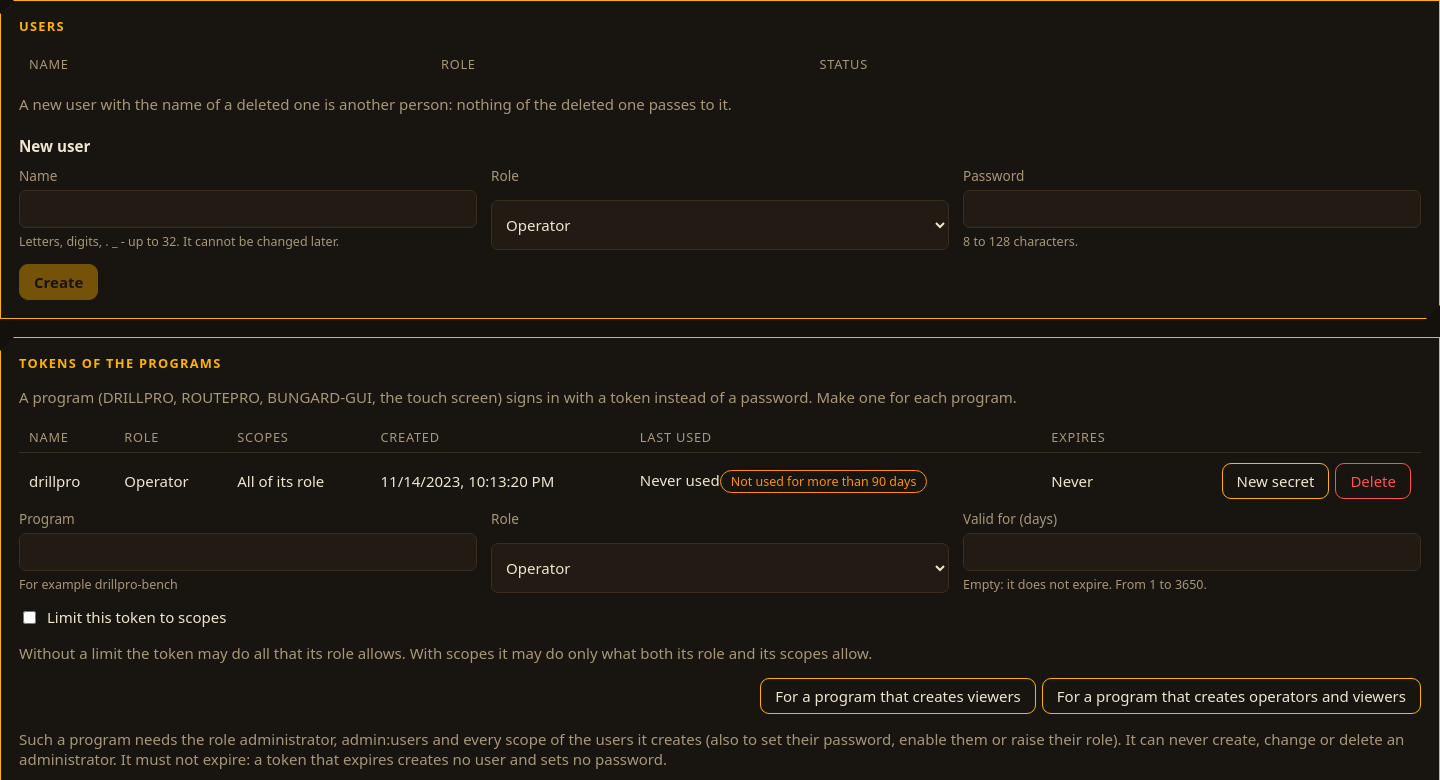
Test case: a new secret for a token › is asked for only after the confirmation, and shown once
This screenshot has width=1440, height=780.
Click the button "New secret" at (1275, 482), box [1222,464,1329,500]
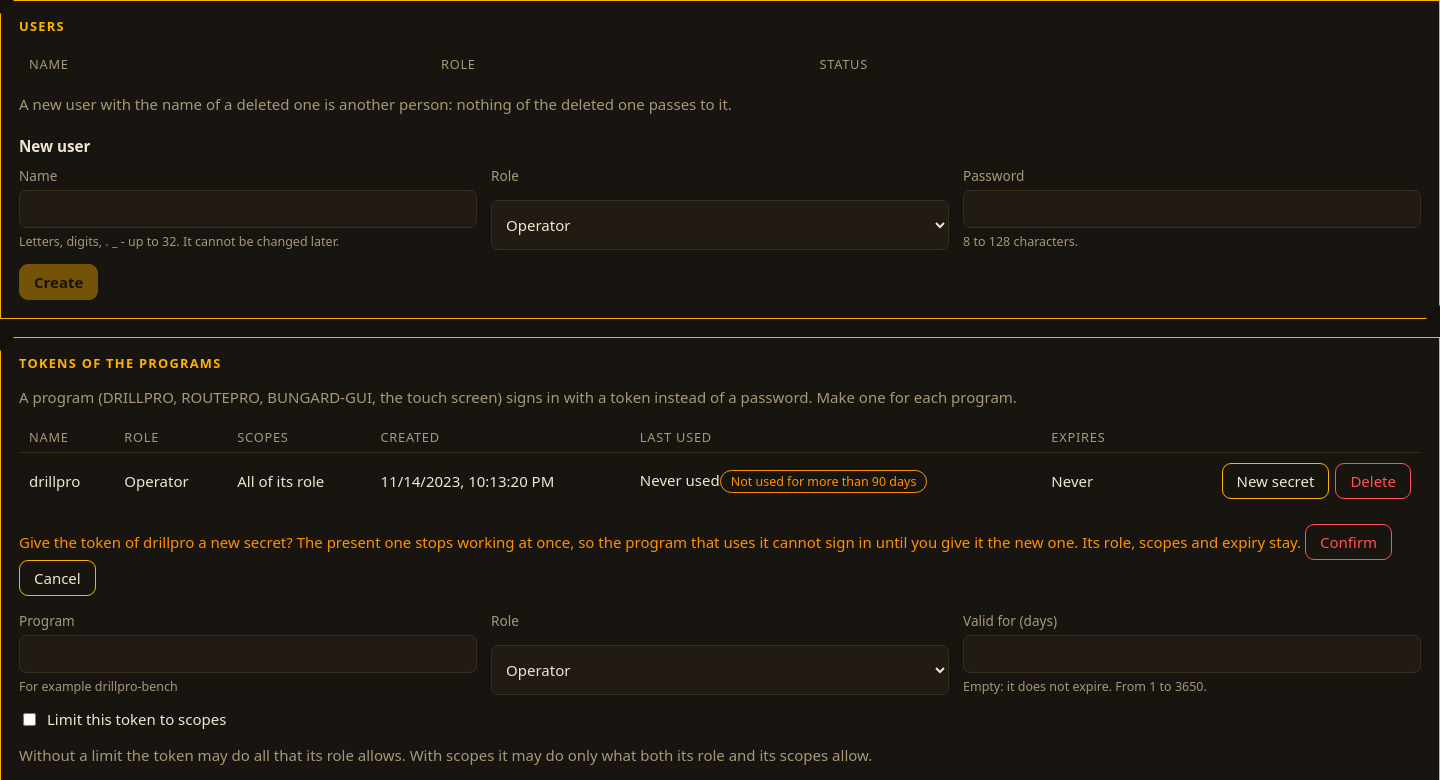
Check: the text "Give the token of drillpro a new secret?" is shown, box [19,532,1301,552]
Click the button "Cancel" at (57, 578), box [19,560,96,596]
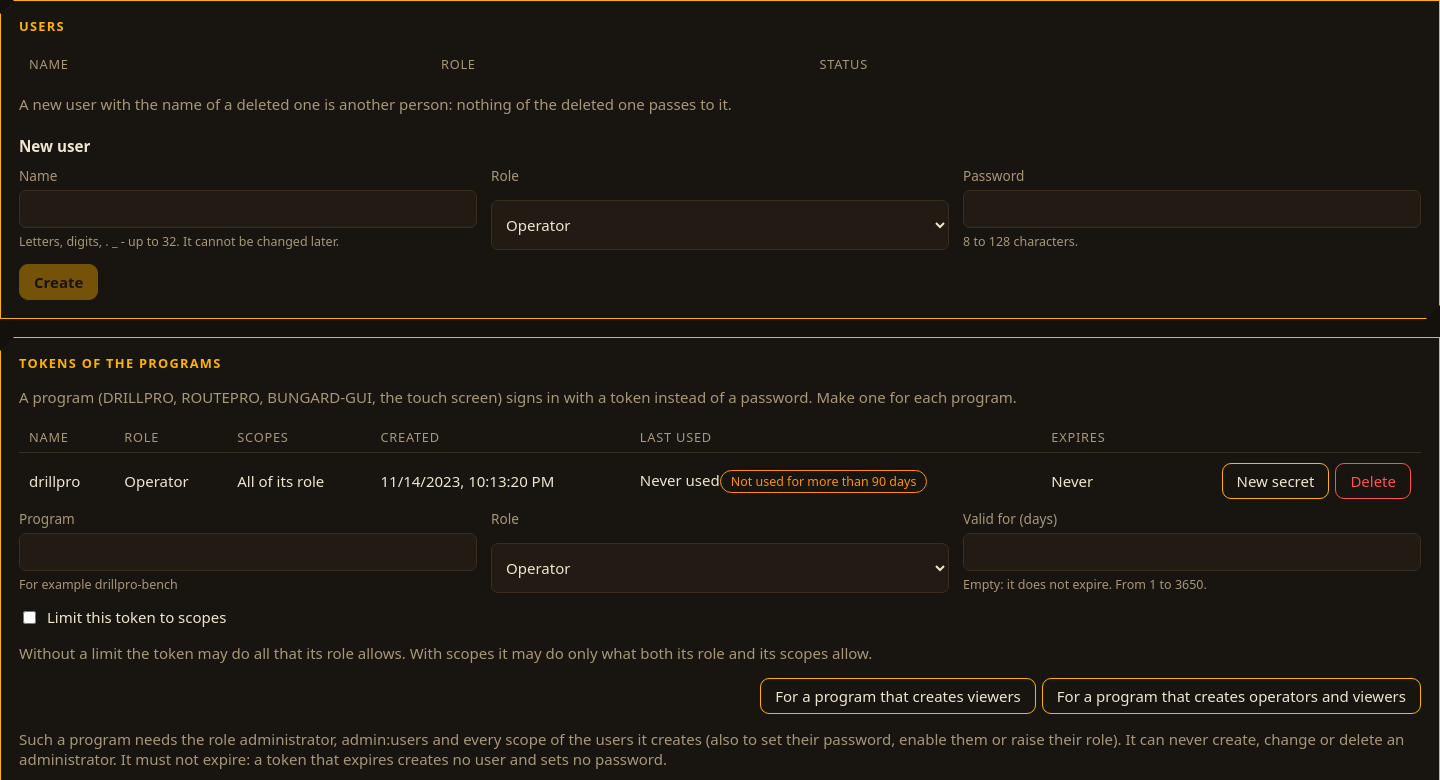
Check: the text "Give the token of drillpro a new secret?" is gone
Click the button "New secret" at (1275, 482), box [1222,464,1329,500]
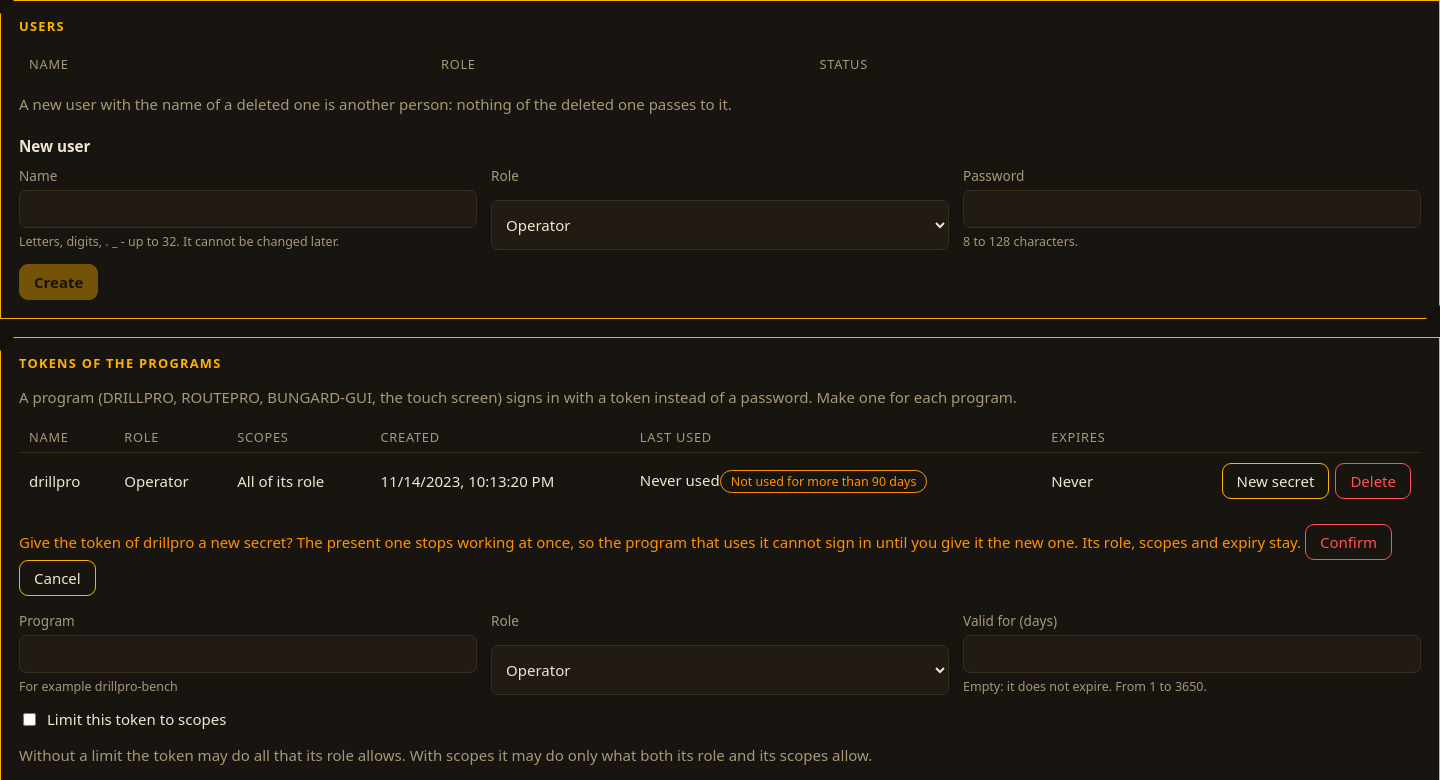
Click the button "Confirm" at (1349, 542), box [1305,524,1392,560]
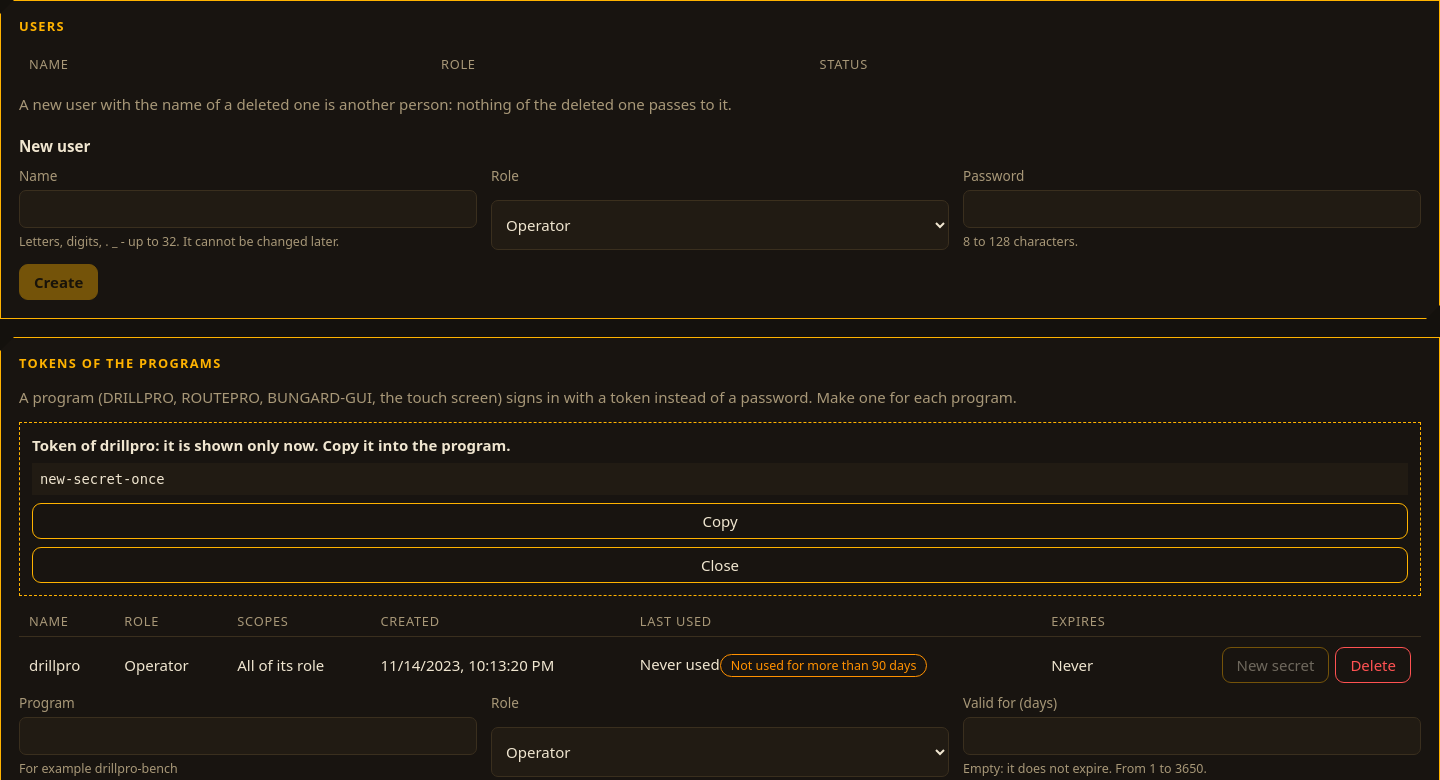
Check: the text "Token of drillpro: it is shown only now." is shown, box [32,435,511,455]
Check: the button "New secret" is disabled, box [1222,648,1329,684]
Click the button "Close" at (720, 565), box [32,547,1408,583]
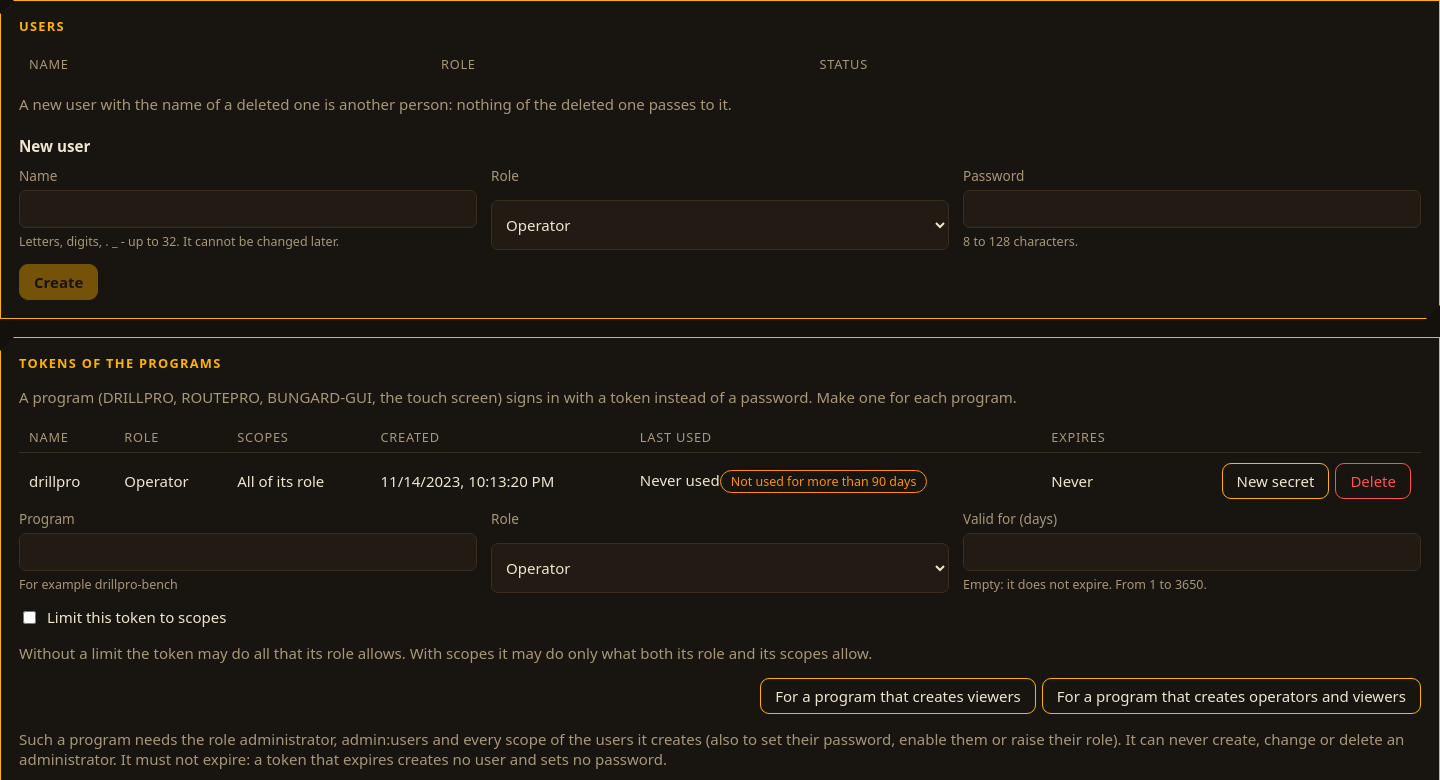
Check: the button "New secret" is enabled, box [1222,464,1329,500]
